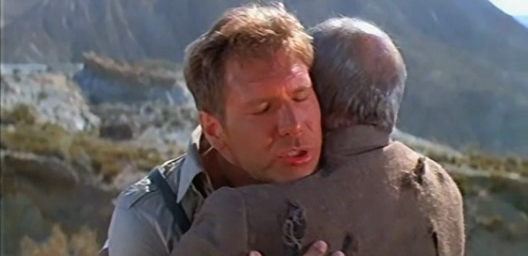cu: (1, 1, 528, 256)
face: (230, 54, 320, 182)
person: (166, 12, 467, 255), (108, 1, 321, 255)
